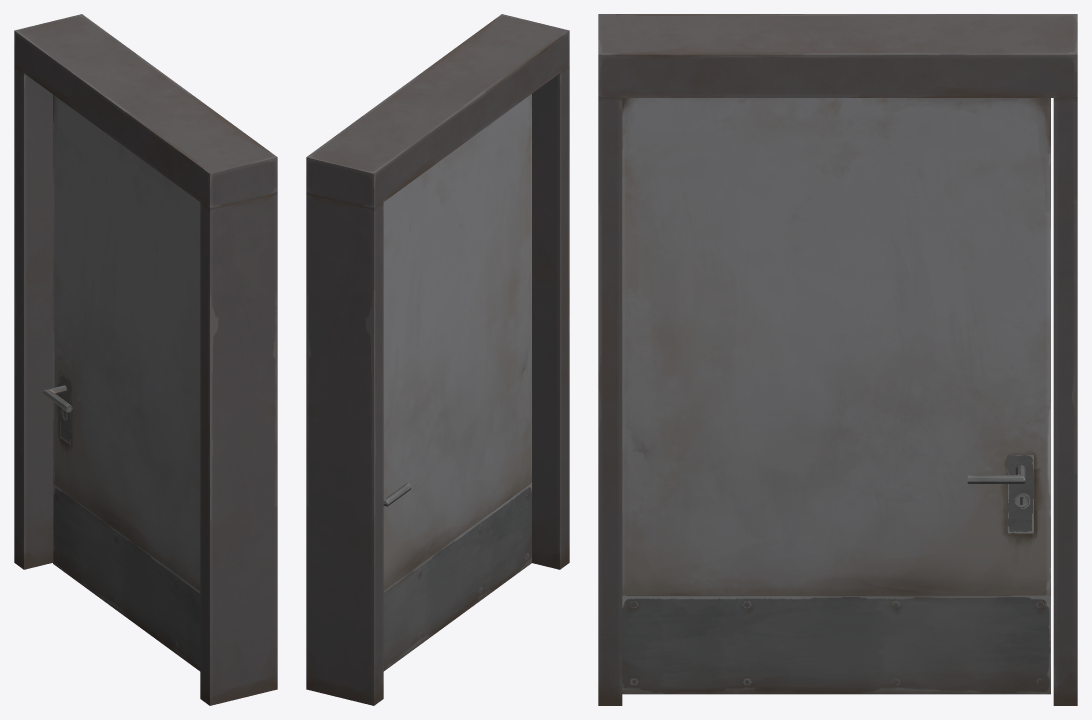
The model's file is WarehouseManager_06.obj.
3 renders of one model, left to right at view 1: azimuth 30°, elevation 25°; view 2: azimuth 150°, elevation 25°; view 3: azimuth 270°, elevation 25°, orthographic. The views are drawn at different scales.
Bounding box in the file's own units: 0.4076 × 3 × 2.
2 materials, 2 textured.
